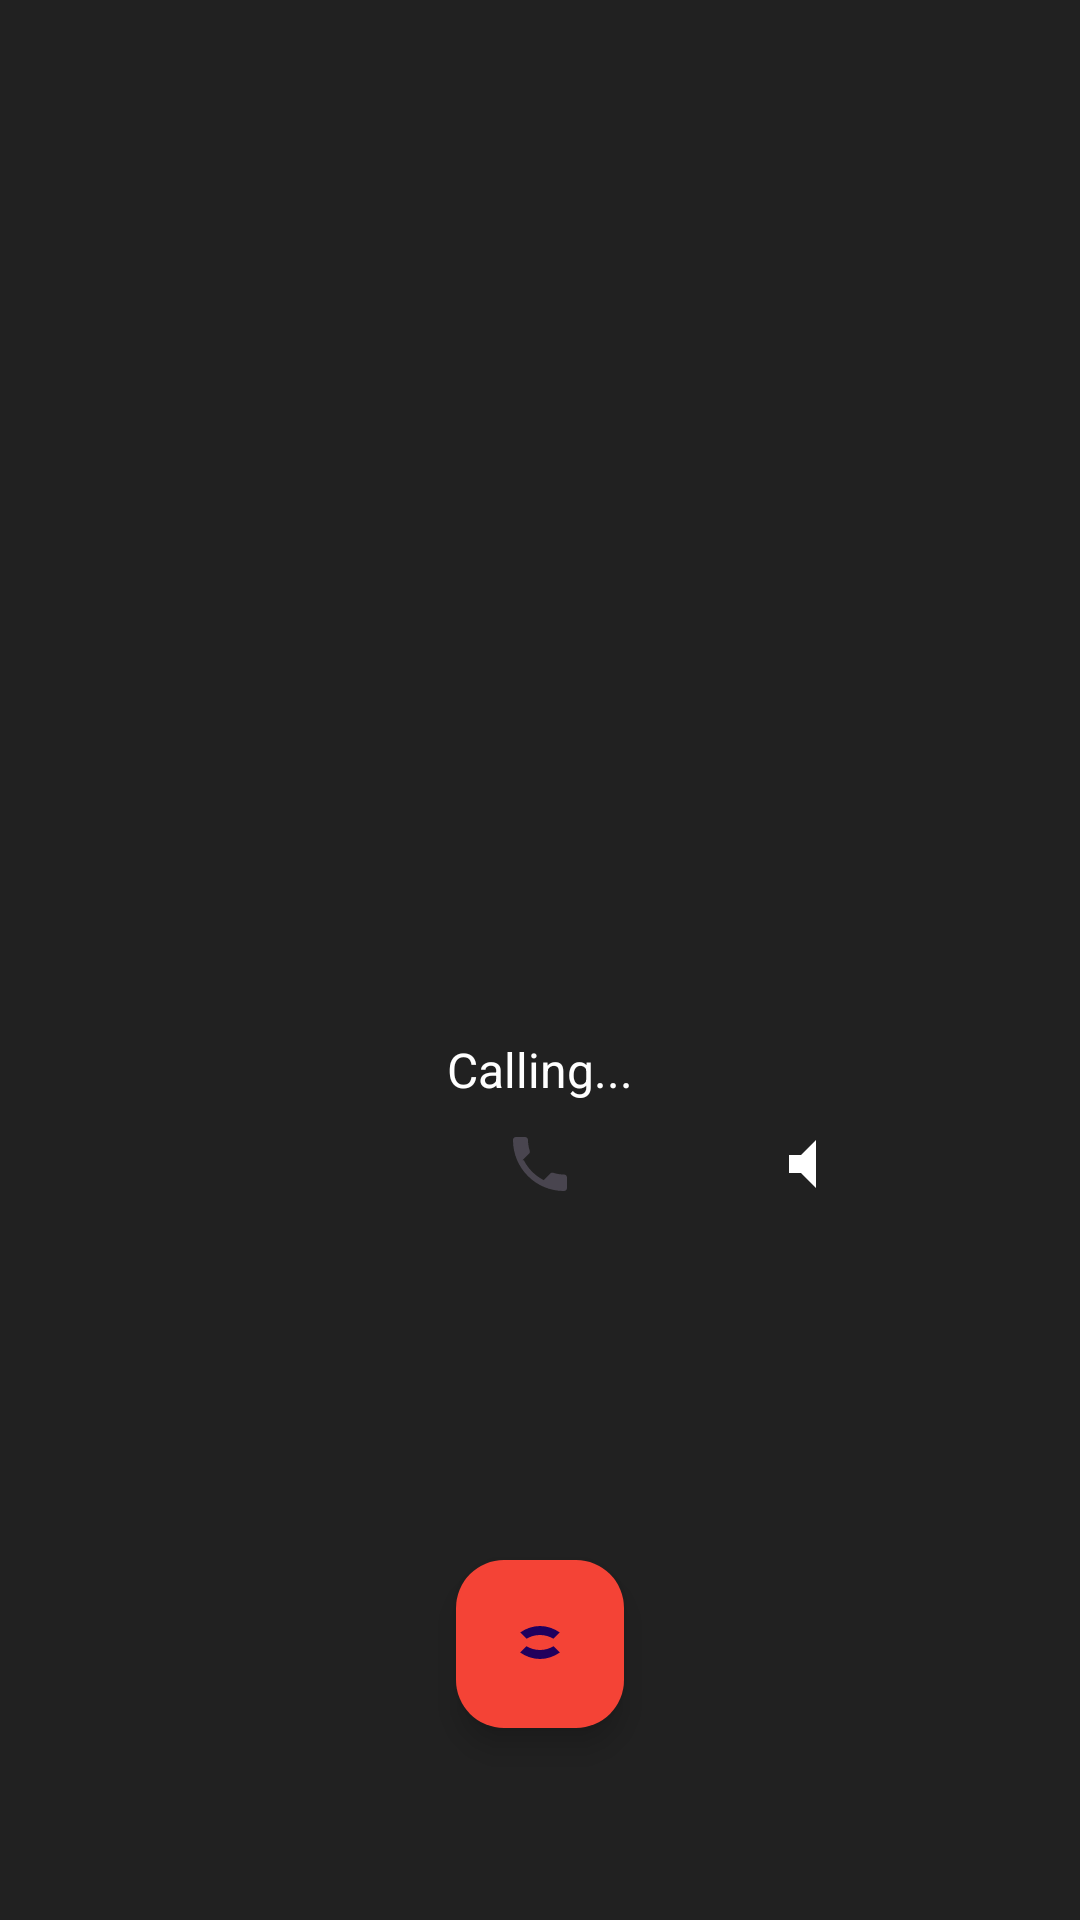

Locate icon controls on the screen. Image size 1080 × 1920, boxes as (x1, y1, x2, y2).
End Call: (456, 1560, 624, 1728)
Speaker: (789, 1140, 816, 1188)
